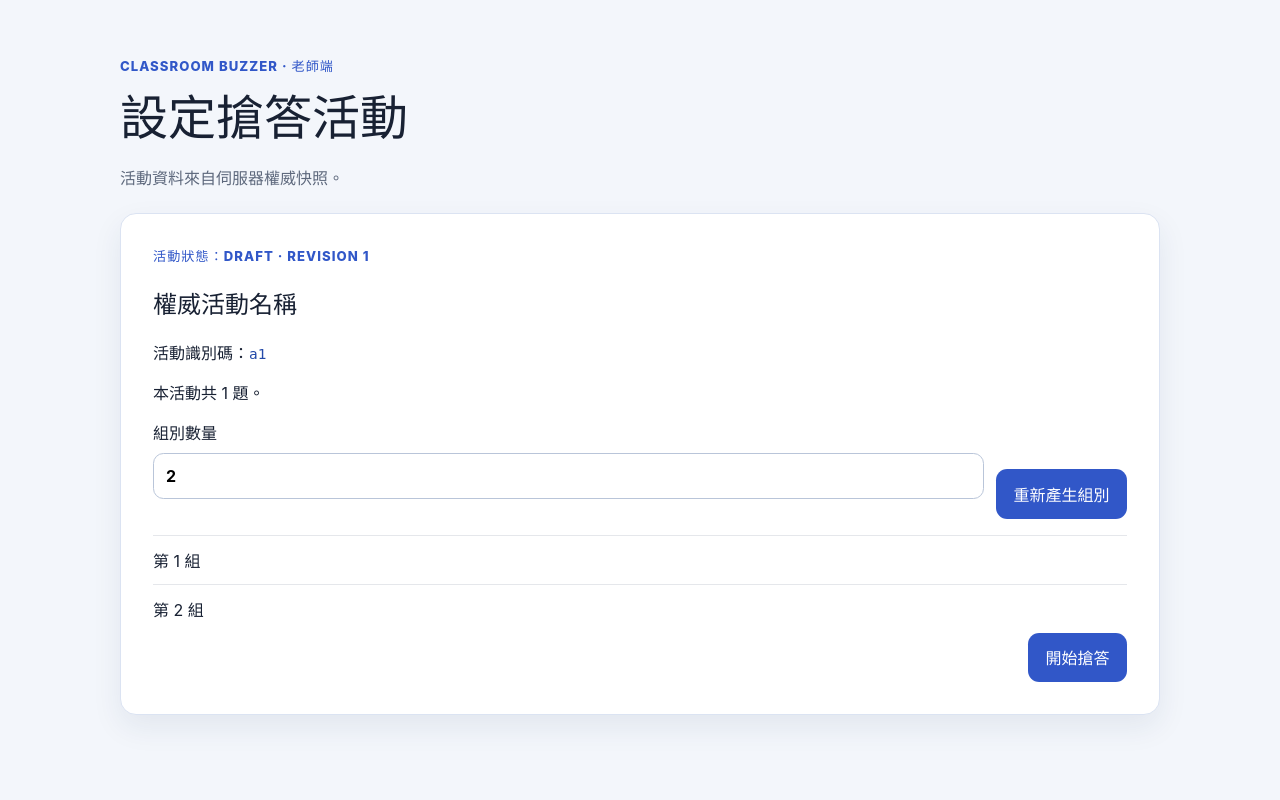
Scenario: 老師 Guided Notes 匯入介面 › 老師從恢復的 DRAFT 開始及結束後同步切換狀態主標題
Expected: the heading "設定搶答活動" is shown, x1=120 y1=88 x2=408 y2=147
Click the button "開始搶答": coordinates (1077, 657) x1=1028 y1=633 x2=1127 y2=682
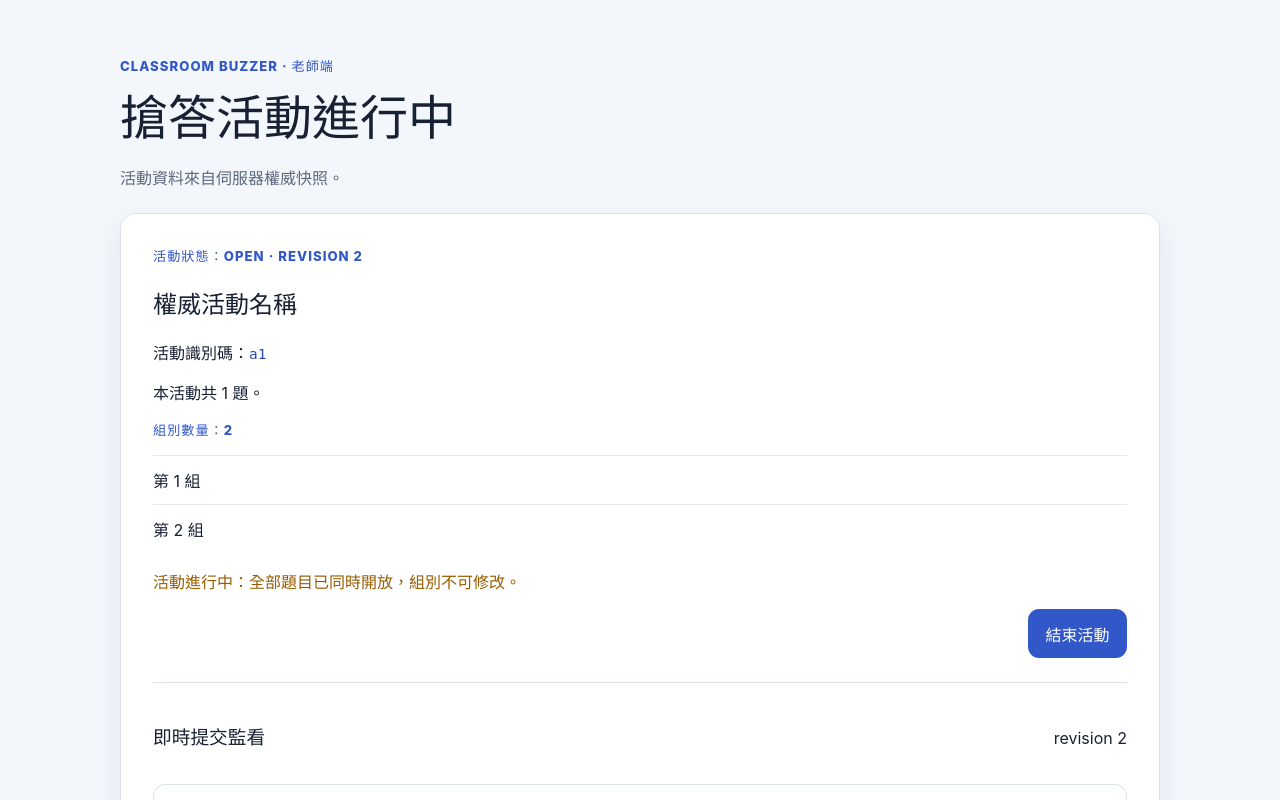
Expected: the heading "搶答活動進行中" is shown, x1=120 y1=88 x2=456 y2=147
Click the button "結束活動": coordinates (1077, 634) x1=1028 y1=609 x2=1127 y2=658
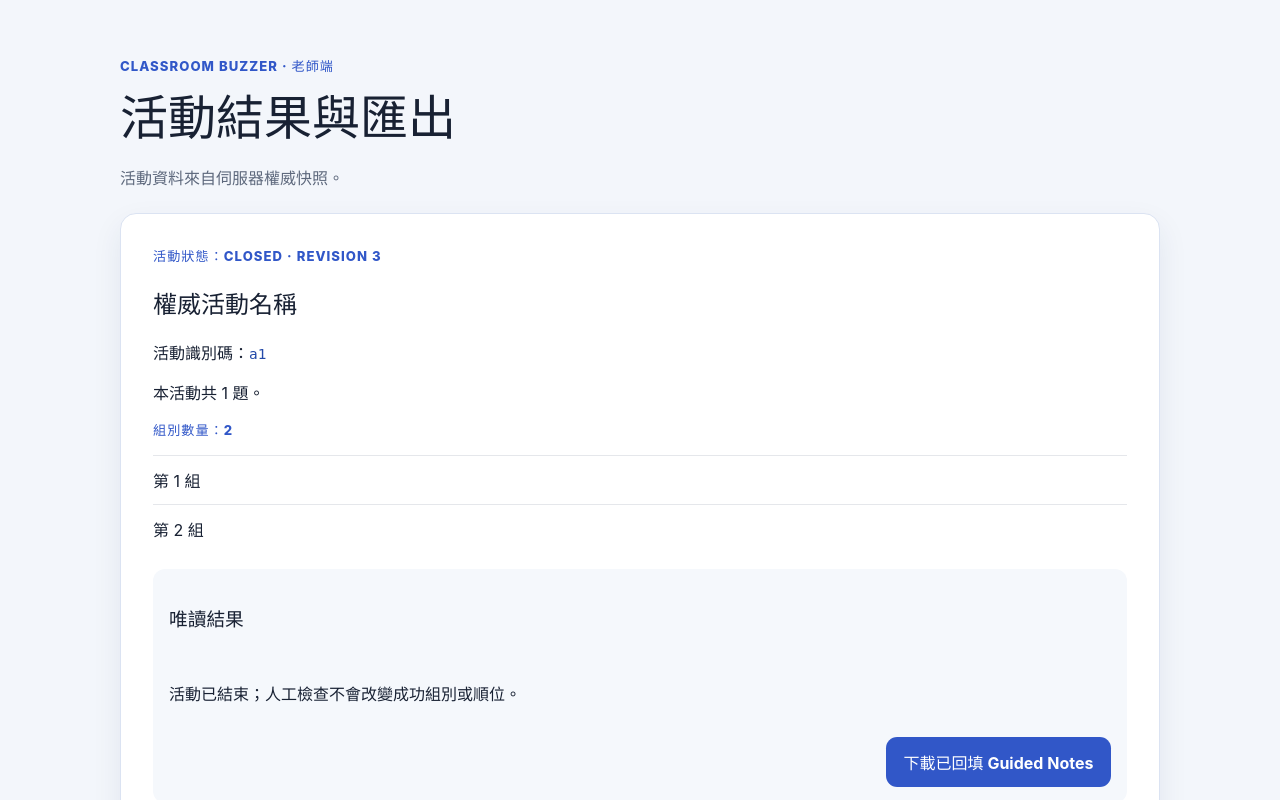
Expected: the heading "權威活動名稱" is shown, x1=153 y1=290 x2=297 y2=319
Expected: the heading "活動結果與匯出" is shown, x1=120 y1=88 x2=456 y2=147
